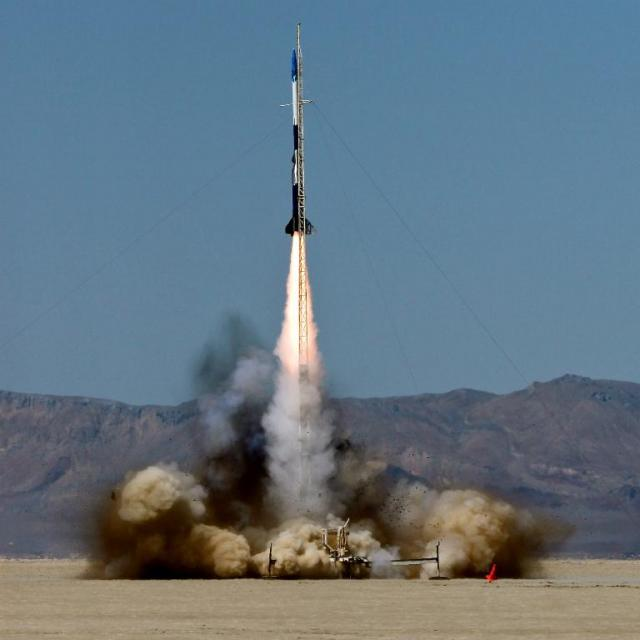rocket: (286, 48, 312, 323)
